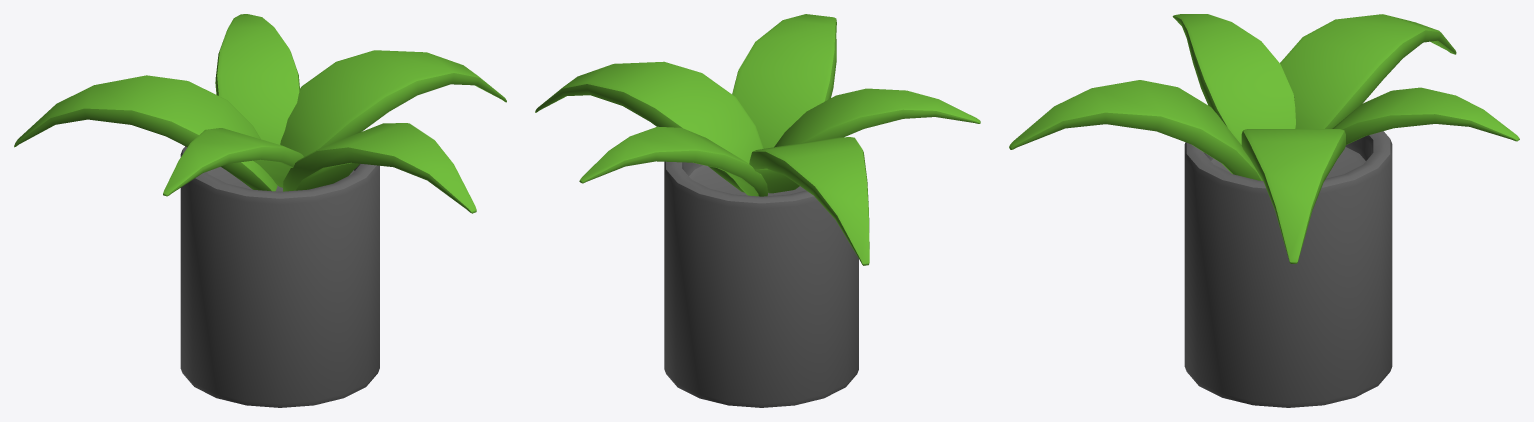
Rendered from SM_plant_room_05.fbx.
The picture shows the model from 3 angles, left to right: view 1: azimuth 30°, elevation 25°; view 2: azimuth 150°, elevation 25°; view 3: azimuth 270°, elevation 25°; orthographic projection. The views are drawn at different scales.
Visible parts, largest first — view 1: Object076; view 2: Object076; view 3: Object076.
Boxes of the visible parts, x1,y1,x2,y2 form: Object076: (14, 14, 506, 407); Object076: (535, 14, 980, 407); Object076: (1009, 14, 1519, 407).
Size of the model in its own units: 34.23 by 21.8 by 34.98.
